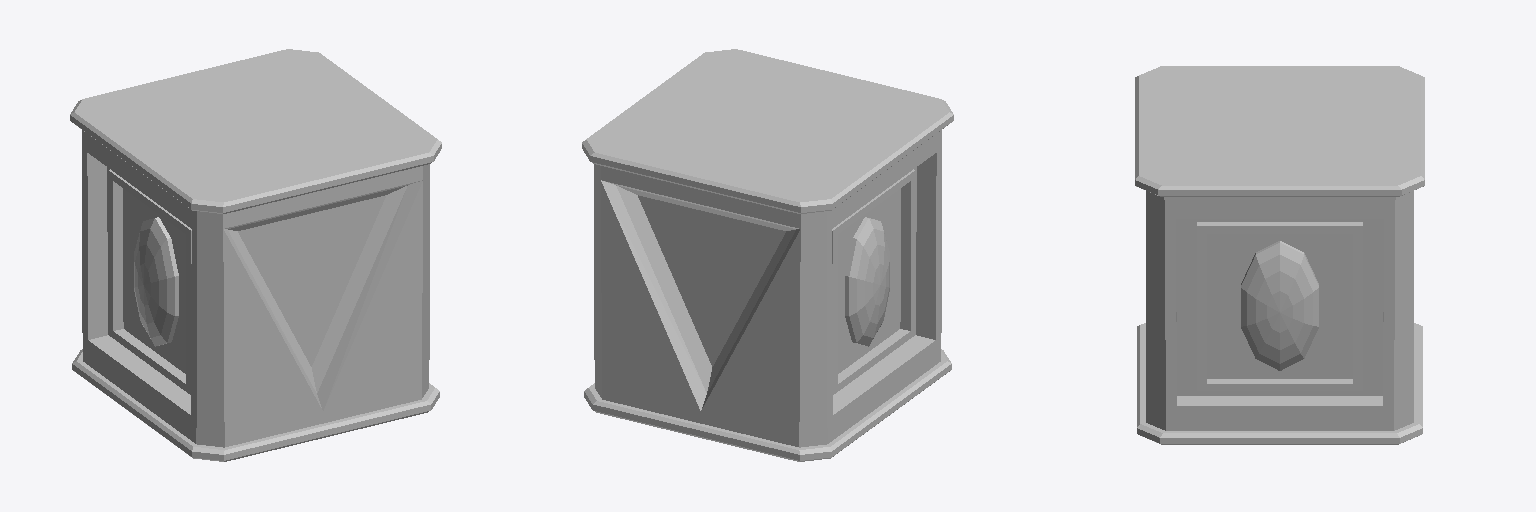
File: pillar-9.obj
The picture shows the model from 3 angles: view 1: azimuth 30°, elevation 25°; view 2: azimuth 150°, elevation 25°; view 3: azimuth 270°, elevation 25°; orthographic projection.
Visible parts, largest first — view 1: pCube11; view 2: pCube11; view 3: pCube11.
Boxes of the visible parts, x1=… form: pCube11: x1=70, y1=49, x2=441, y2=461; pCube11: x1=582, y1=49, x2=953, y2=461; pCube11: x1=1135, y1=66, x2=1424, y2=444.
Size of the model in its own units: 1.05 by 1.05 by 1.05.